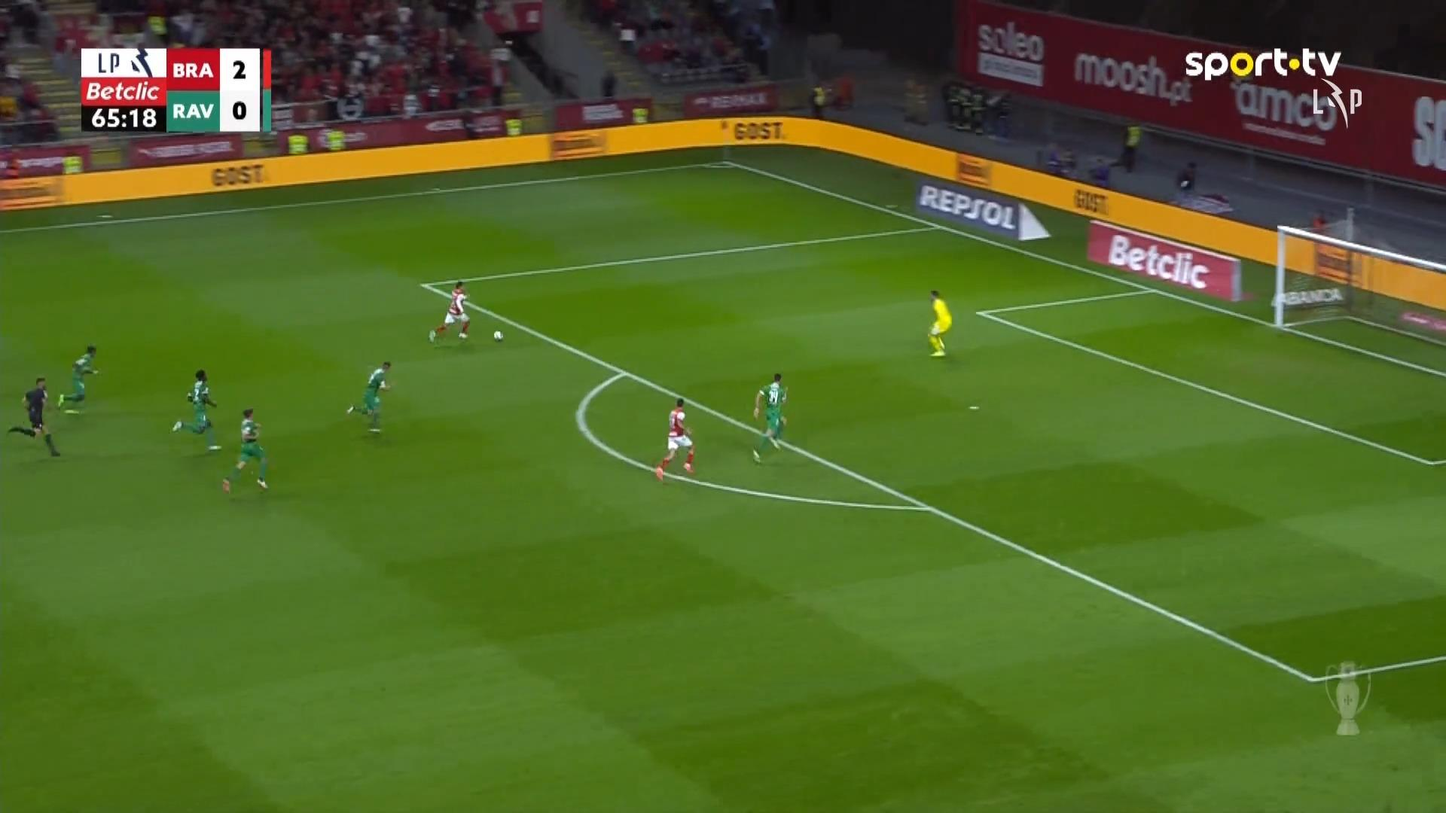ball: (493, 330, 502, 340)
goalkeeper: (926, 288, 952, 357)
player: (221, 406, 269, 494), (654, 397, 695, 481), (345, 360, 392, 433), (751, 372, 788, 464), (54, 343, 99, 413), (171, 368, 217, 435), (427, 279, 471, 344)
referee: (6, 375, 60, 457)
